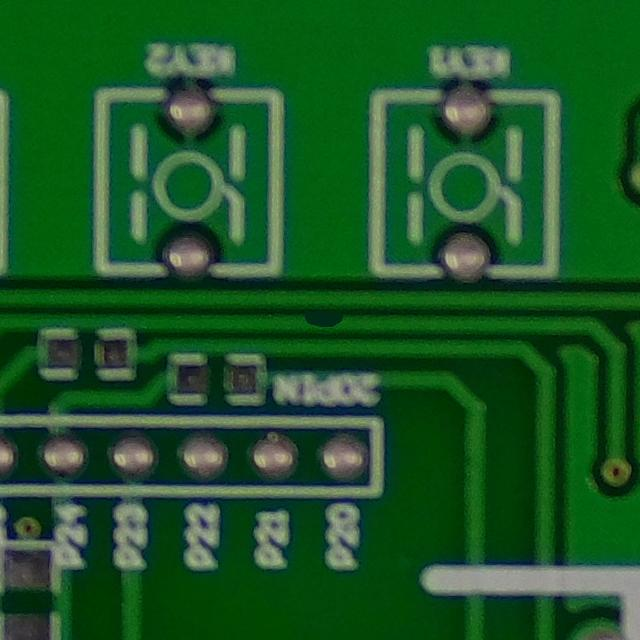mouse_bite: (281, 297, 360, 343)
